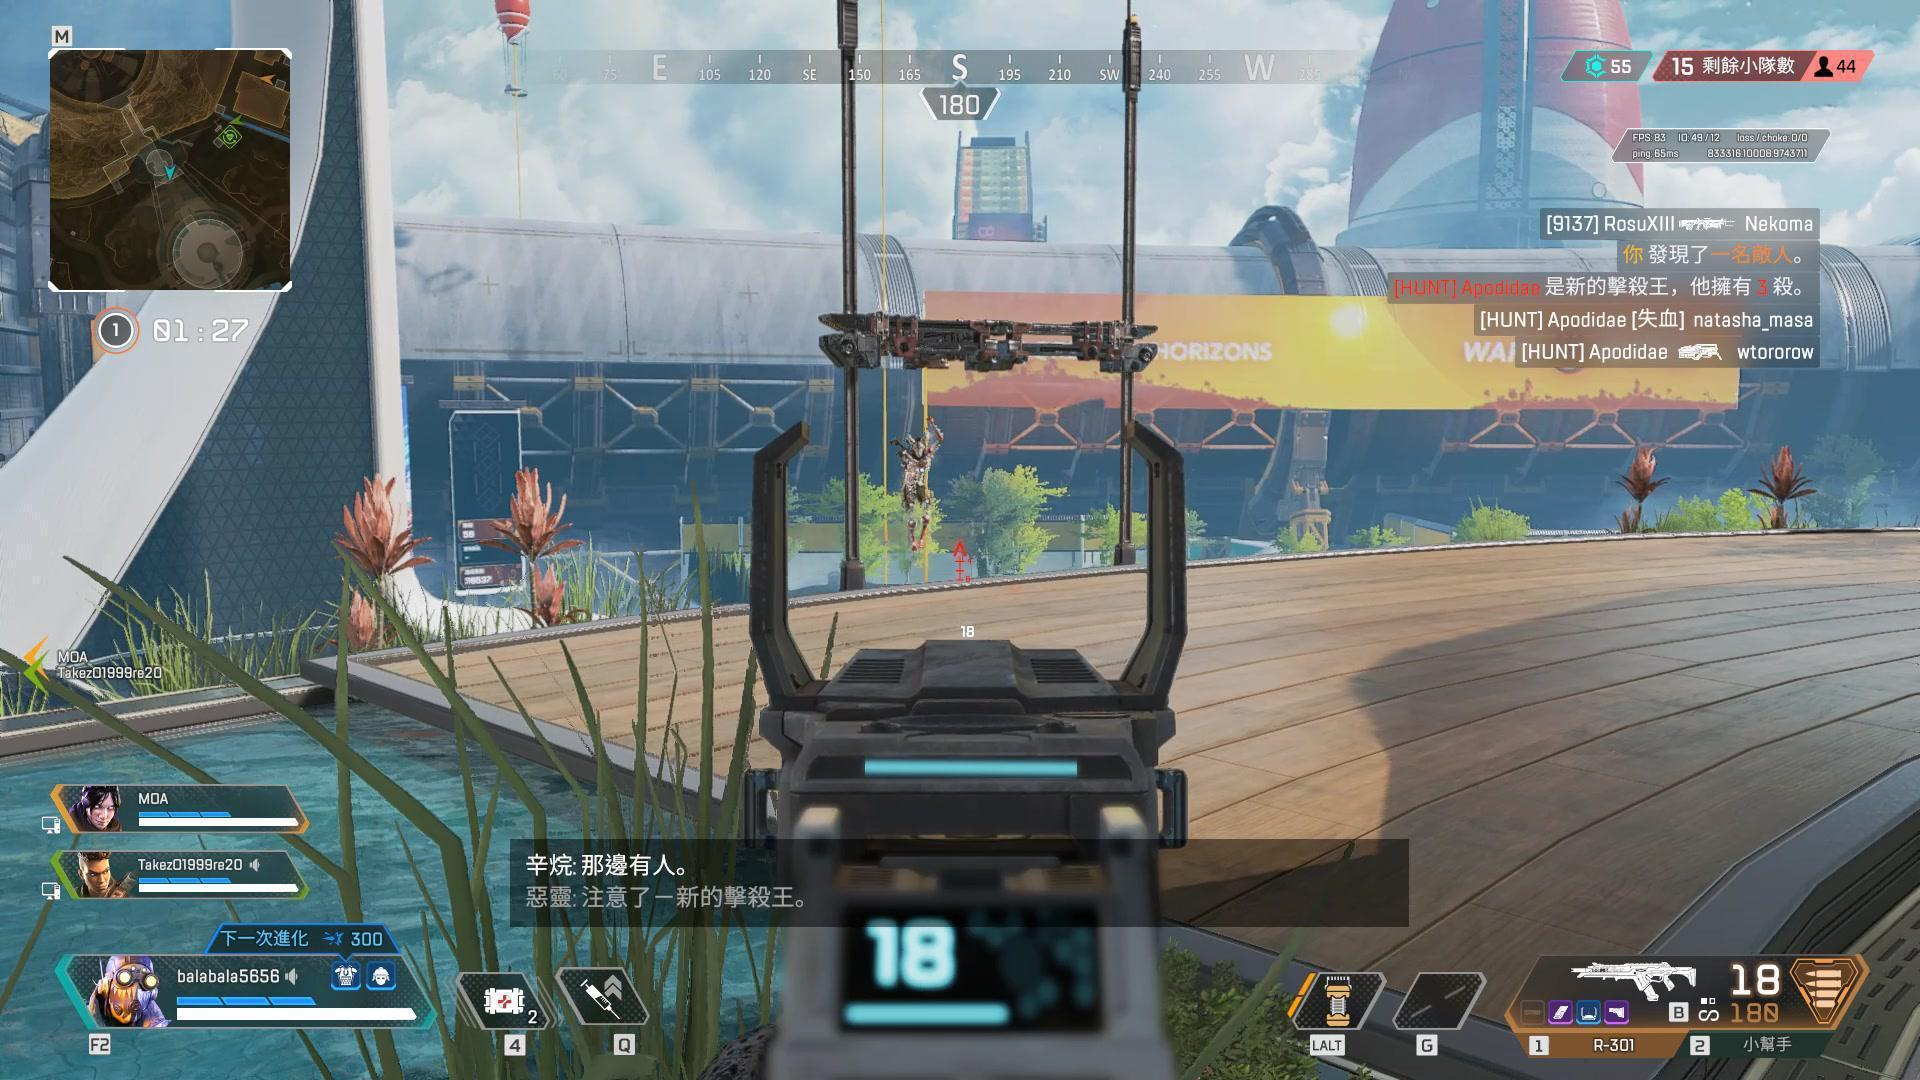avatar: (895, 431, 940, 552)
